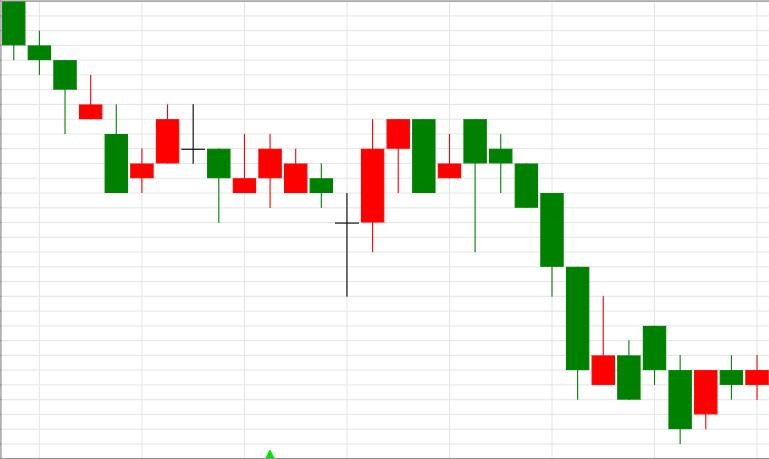bearish_engulfing_fall: (336, 118, 435, 298)
inverse_hammer_rise: (464, 119, 614, 401)
